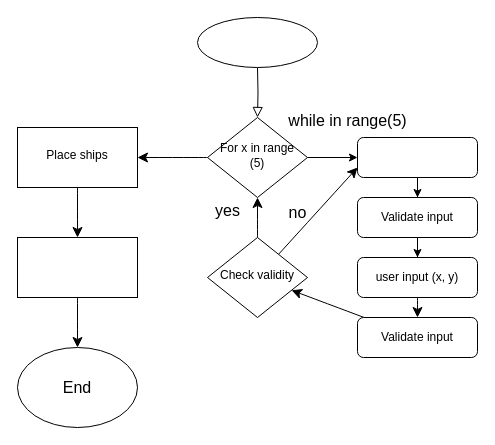
Image size: 495x445. Some labels were removed from this diagram. Here are the shapes that lost their labels. From the top down, the centre of each, then its label:
At point 257,42: "Start".
At point 417,157: "user input ship orientation (H or V)".
At point 77,267: "update 2d array".
